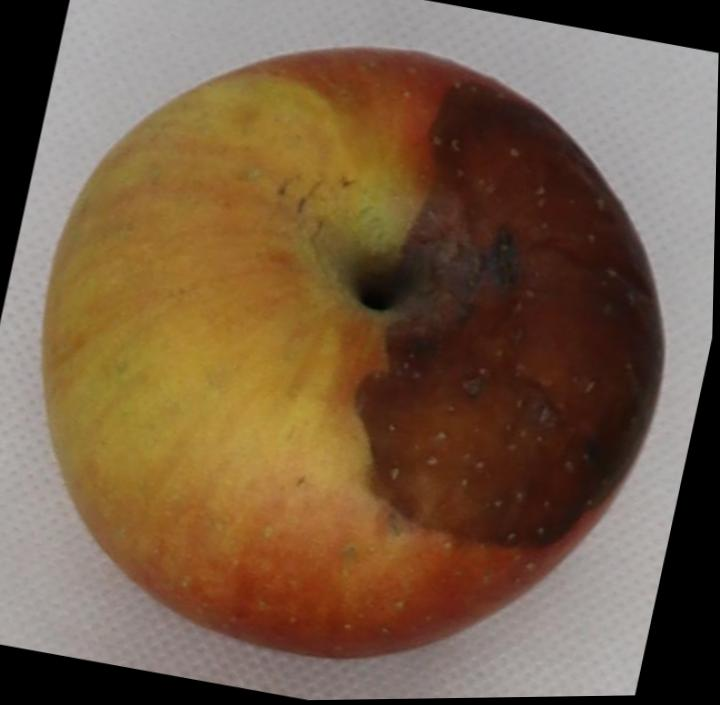apple: (44, 48, 663, 655)
rot_mold_decay: (357, 65, 662, 547)
